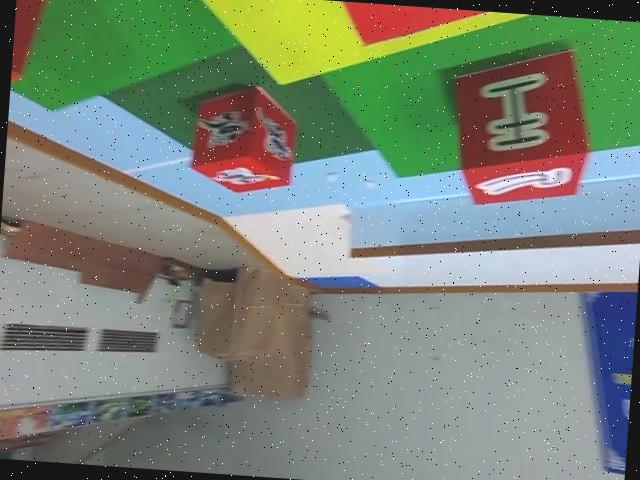R1: (189, 79, 296, 197)
R2 Fake: (444, 38, 597, 213)
